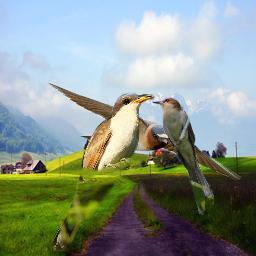Cuckoo: (48, 90, 156, 254), (152, 97, 214, 215)
Swallow: (44, 78, 242, 180)
